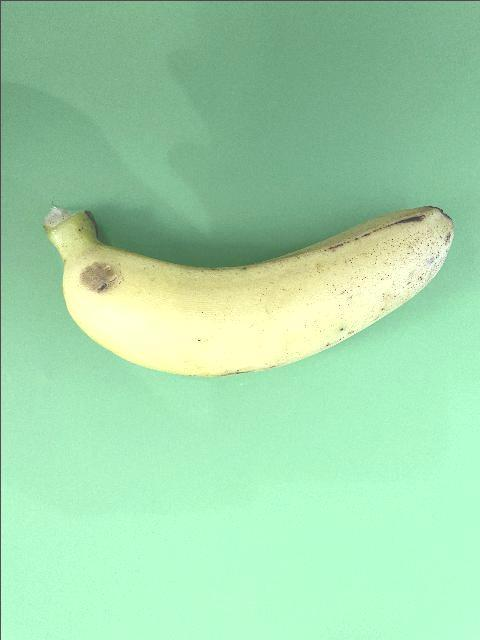banana: (41, 202, 452, 378)
